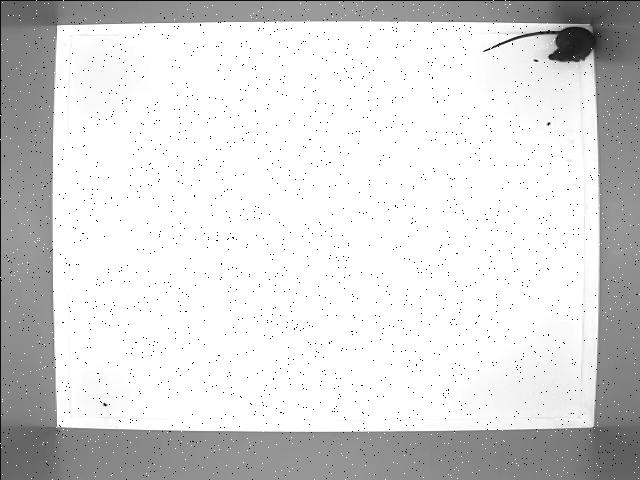Tikus: (480, 25, 592, 61)
